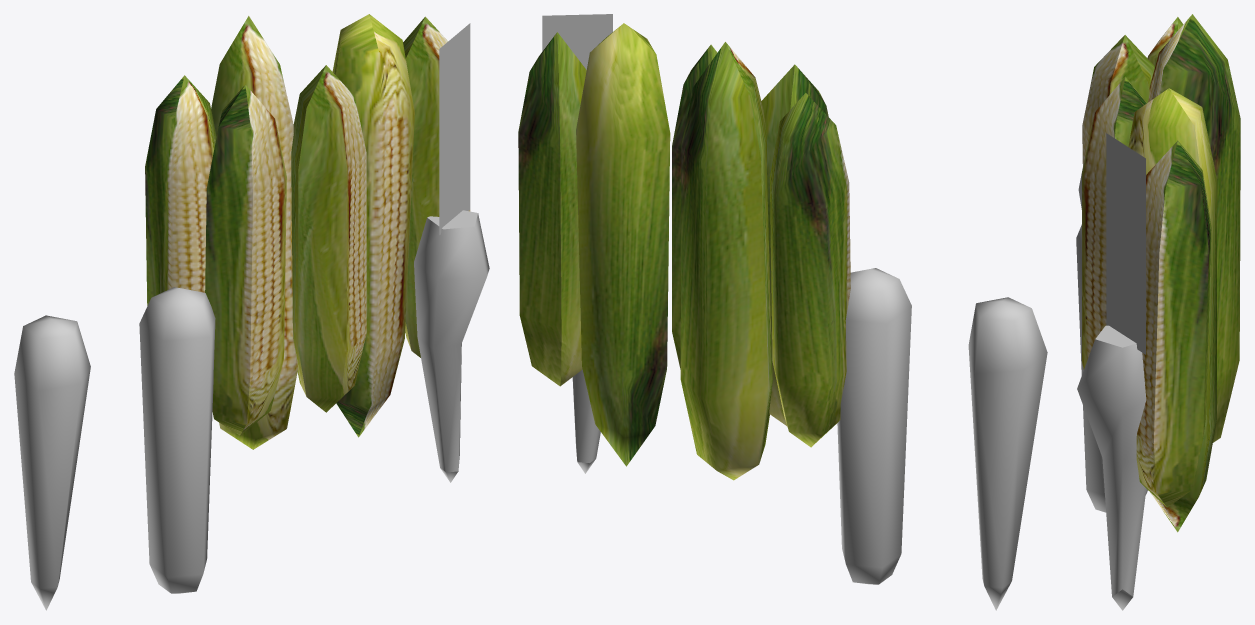
File: corn.fbx
3 renders of one model, left to right at view 1: azimuth 30°, elevation 25°; view 2: azimuth 150°, elevation 25°; view 3: azimuth 270°, elevation 25°, orthographic. The views are drawn at different scales.
Visible parts, largest first — view 1: CornCob, CornCob01, CARROT_02, Carrot, Plane02; view 2: CornCob, CornCob01, CARROT_02, Plane02, Carrot; view 3: CornCob, Carrot, Plane02, CornCob01.
Part boxes in pixels (x1,y1,x2,y2): CornCob: [145, 14, 470, 449]; CornCob01: [139, 287, 215, 593]; CARROT_02: [14, 315, 90, 610]; Carrot: [414, 210, 489, 482]; Plane02: [439, 23, 470, 234]; CornCob: [518, 23, 850, 480]; CornCob01: [837, 268, 911, 584]; CARROT_02: [968, 297, 1047, 610]; Plane02: [542, 14, 612, 69]; Carrot: [572, 370, 600, 473]; CornCob: [1082, 14, 1240, 532]; Carrot: [1077, 325, 1146, 610]; Plane02: [1106, 133, 1145, 354]; CornCob01: [1076, 224, 1147, 512].
Bounding box in the file's own units: 39.46 × 42.34 × 11.39.
